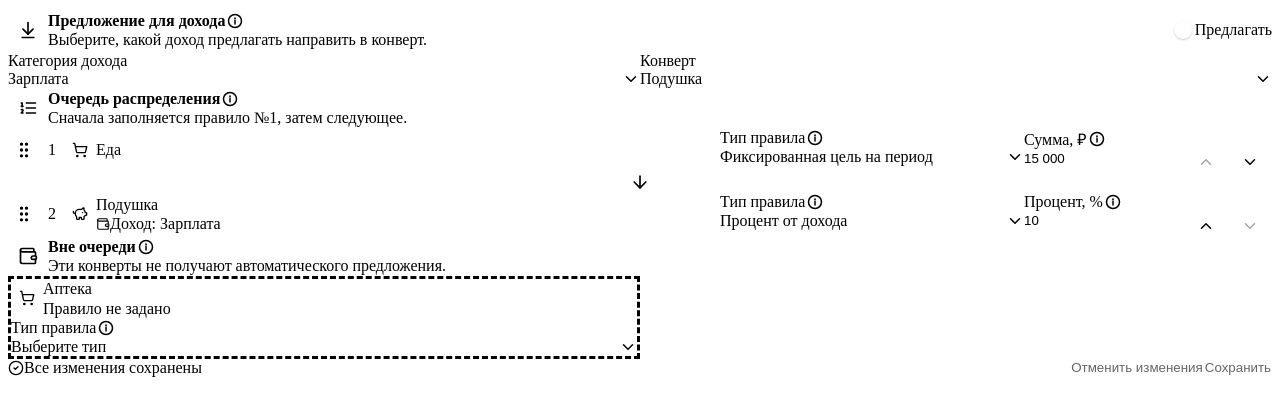
Test: FundingRulesEditor › сохраняет одним запросом и перечитывает ответ
Step 1. Click the button with test id "rule-up-b" → (1206, 226), box [1184,216,1228,236]
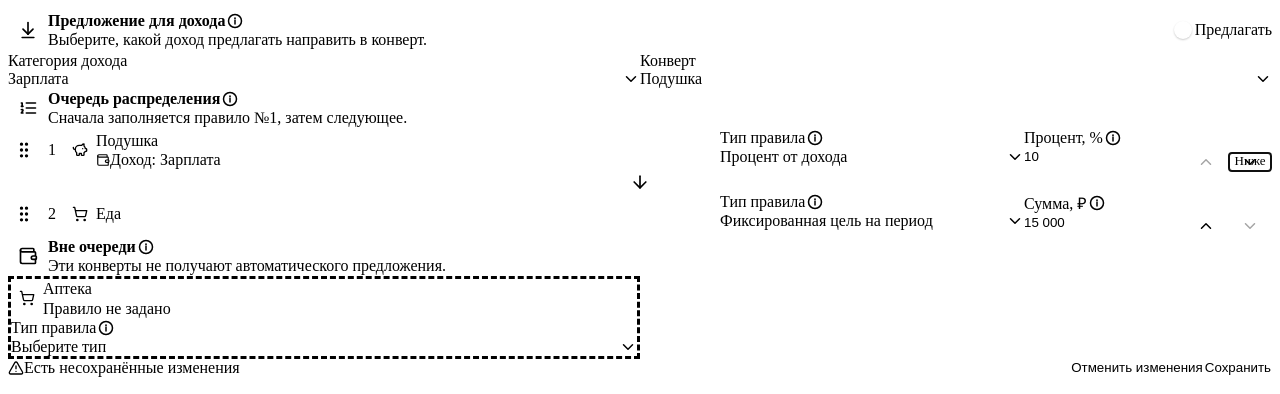
Step 2. Click the button with test id "rules-save" → (1238, 368), box [1204,359,1272,378]
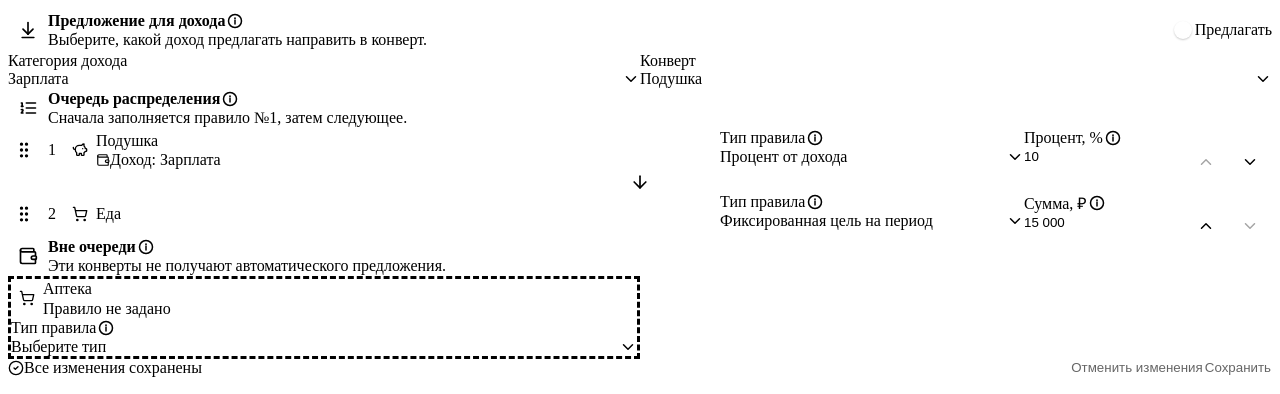
Expected: the button with test id "rules-save" is disabled, [1204,359,1272,378]
